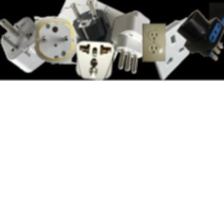three_eye_plug: (147, 14, 196, 82), (0, 14, 51, 75), (109, 7, 153, 74), (175, 6, 223, 63), (31, 13, 79, 66), (66, 0, 111, 52), (69, 35, 119, 79), (140, 20, 169, 64)
